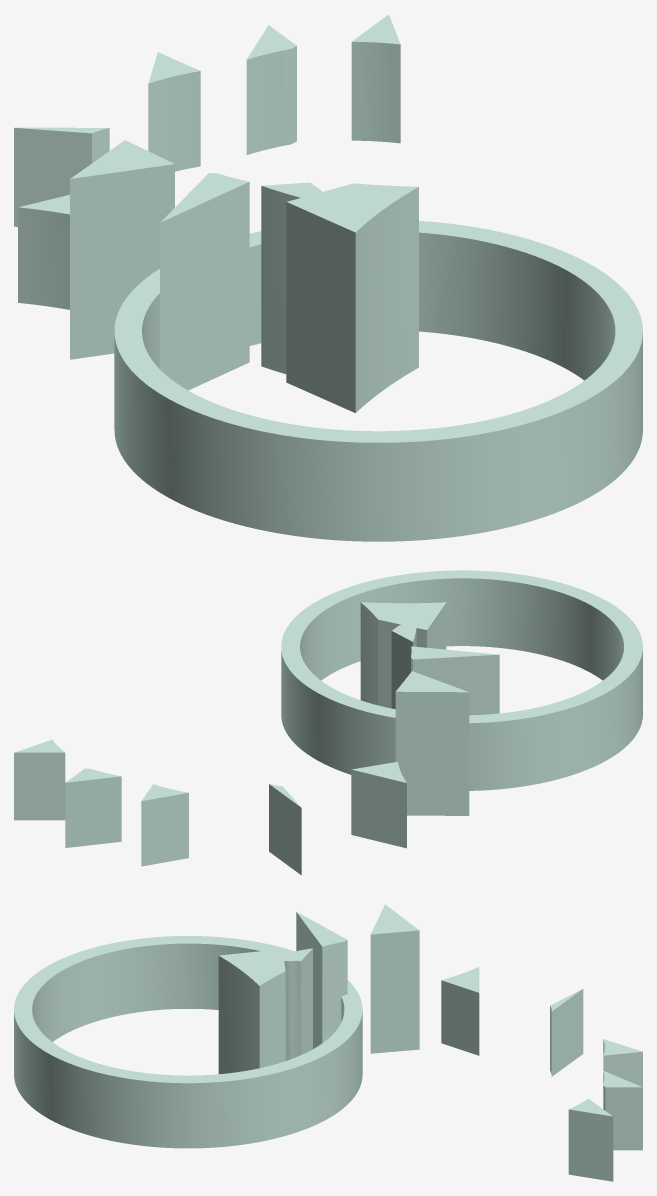
3 views of the same model, one above another, from view 1: azimuth 30°, elevation 25°; view 2: azimuth 150°, elevation 25°; view 3: azimuth 270°, elevation 25° (orthographic). The views are drawn at different scales.
Visible parts, largest first — view 1: Renderer Node; view 2: Renderer Node; view 3: Renderer Node.
Part boxes in pixels (x1=…): Renderer Node: x1=14, y1=14, x2=642, y2=541; Renderer Node: x1=14, y1=570, x2=642, y2=875; Renderer Node: x1=14, y1=904, x2=642, y2=1181.
Bounding box in the file's own units: 1.35 × 0.4141 × 1.98.
